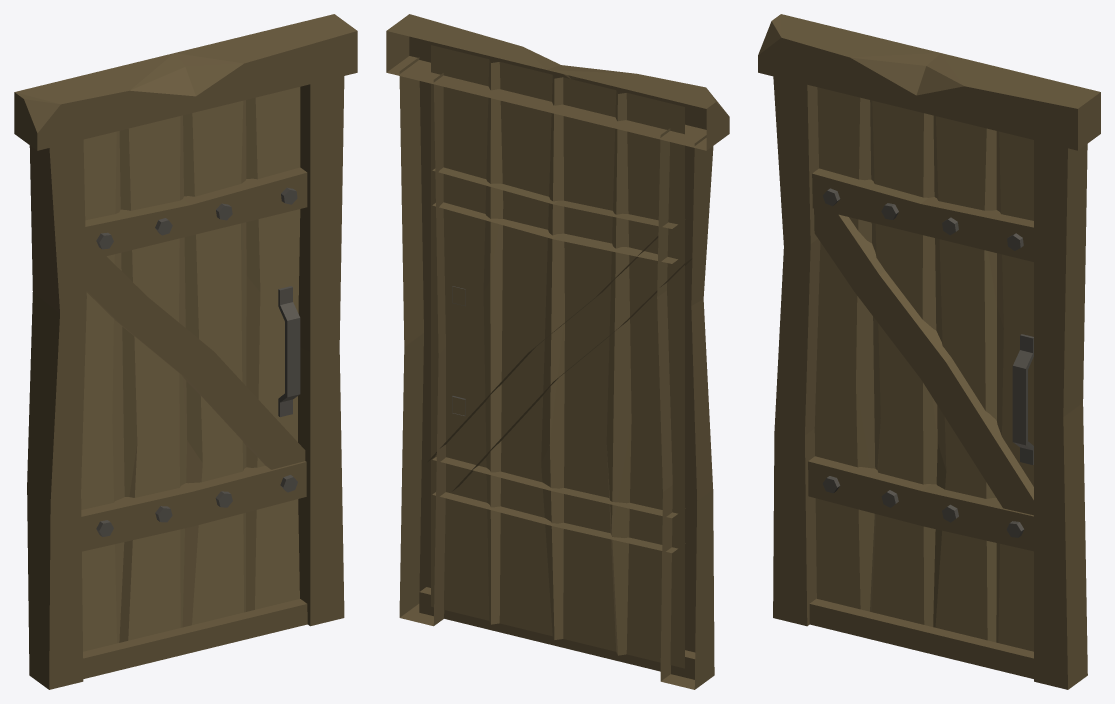
Rendered from Door_1.fbx.
3 renders of one model, left to right at view 1: azimuth 30°, elevation 25°; view 2: azimuth 150°, elevation 25°; view 3: azimuth 330°, elevation 25°, orthographic.
Parts seen in each view (by area): view 1: Door_1; view 2: Door_1; view 3: Door_1.
Boxes of the visible parts, left/top/right/bottom form: Door_1: left=14, top=14, right=357, bottom=689; Door_1: left=386, top=14, right=729, bottom=689; Door_1: left=758, top=14, right=1100, bottom=689.
Size of the model in its own units: 143 by 249 by 17.8.
